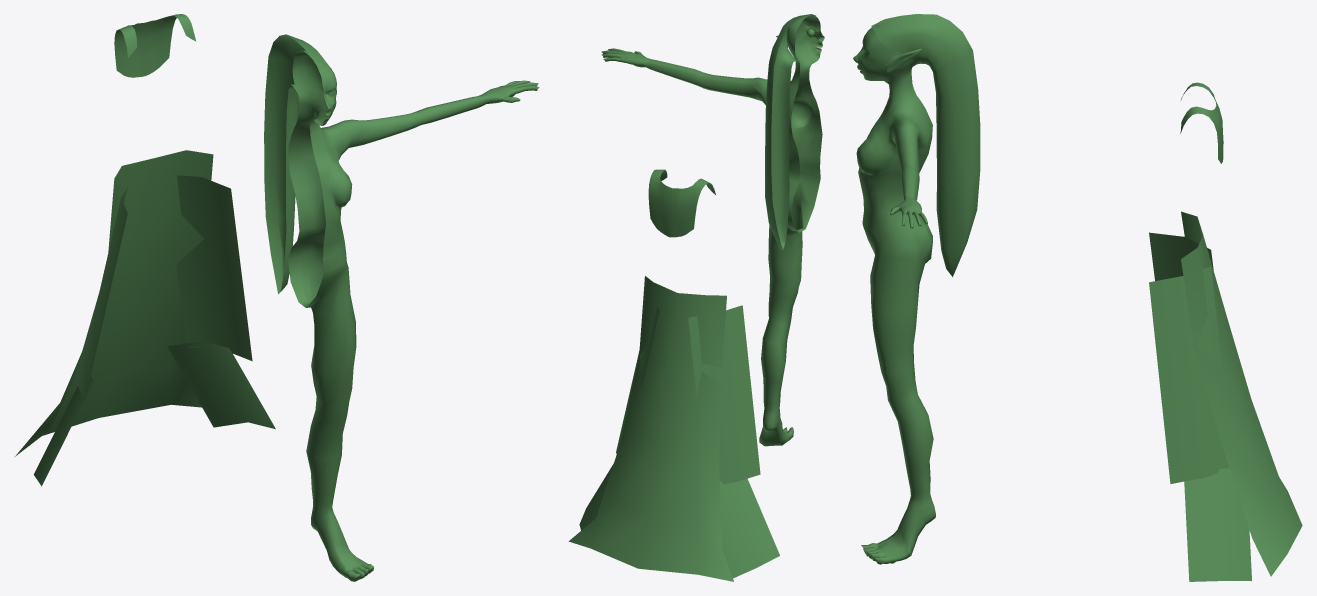
Rendered from shaman_UV.obj.
The picture shows the model from 3 angles, left to right: view 1: azimuth 30°, elevation 25°; view 2: azimuth 150°, elevation 25°; view 3: azimuth 270°, elevation 25°; orthographic projection. The views are drawn at different scales.
Parts seen in each view (by area): view 1: shaman:elf_body shaman:polySurface3 shaman:polySurface5 shaman:p, shaman:butt_cape1 shaman:polySurface3 shaman:polySurface5 shaman, shaman:pPlane14 shaman:polySurface3 shaman:polySurface5 shaman:p, shaman:polySurface3 shaman:polySurface5 shaman:polySurface10 sha, shaman:butt_cape3 shaman:polySurface3 shaman:polySurface4 shaman, shaman:elf_cape shaman:polySurface2 shaman:polySurface3 shaman:p, shaman:butt_cape4 shaman:polySurface3 shaman:polySurface5 shaman, shaman:polySurface3 shaman:polySurface5 shaman:polySurface13 sha, shaman:butt_cape5 shaman:polySurface3 shaman:polySurface5 shaman, shaman:polySurface1 shaman:polySurface21; view 2: shaman:butt_cape1 shaman:polySurface3 shaman:polySurface5 shaman, shaman:elf_body shaman:polySurface3 shaman:polySurface5 shaman:p, shaman:butt_cape4 shaman:polySurface3 shaman:polySurface5 shaman, shaman:polySurface3 shaman:polySurface5 shaman:polySurface10 sha, shaman:butt_cape5 shaman:polySurface3 shaman:polySurface5 shaman, shaman:elf_cape shaman:polySurface2 shaman:polySurface3 shaman:p, shaman:pPlane14 shaman:polySurface3 shaman:polySurface5 shaman:p, shaman:polySurface3 shaman:polySurface5 shaman:polySurface13 sha, shaman:butt_cape3 shaman:polySurface3 shaman:polySurface4 shaman, shaman:polySurface1 shaman:polySurface21; view 3: shaman:elf_body shaman:polySurface3 shaman:polySurface5 shaman:p, shaman:butt_cape1 shaman:polySurface3 shaman:polySurface5 shaman, shaman:pPlane14 shaman:polySurface3 shaman:polySurface5 shaman:p, shaman:polySurface3 shaman:polySurface5 shaman:polySurface10 sha, shaman:butt_cape3 shaman:polySurface3 shaman:polySurface4 shaman, shaman:polySurface1 shaman:polySurface21, shaman:polySurface3 shaman:polySurface5 shaman:polySurface13 sha, shaman:butt_cape4 shaman:polySurface3 shaman:polySurface5 shaman, shaman:elf_cape shaman:polySurface2 shaman:polySurface3 shaman:p.
Boxes of the visible parts, left/top/right/bottom form: shaman:elf_body shaman:polySurface3 shaman:polySurface5 shaman:p: left=288, top=50, right=539, bottom=581; shaman:butt_cape1 shaman:polySurface3 shaman:polySurface5 shaman: left=15, top=150, right=213, bottom=456; shaman:pPlane14 shaman:polySurface3 shaman:polySurface5 shaman:p: left=176, top=175, right=252, bottom=361; shaman:polySurface3 shaman:polySurface5 shaman:polySurface10 sha: left=264, top=34, right=331, bottom=294; shaman:butt_cape3 shaman:polySurface3 shaman:polySurface4 shaman: left=167, top=341, right=275, bottom=429; shaman:elf_cape shaman:polySurface2 shaman:polySurface3 shaman:p: left=114, top=14, right=196, bottom=77; shaman:butt_cape4 shaman:polySurface3 shaman:polySurface5 shaman: left=78, top=188, right=127, bottom=401; shaman:polySurface3 shaman:polySurface5 shaman:polySurface13 sha: left=288, top=75, right=350, bottom=311; shaman:butt_cape5 shaman:polySurface3 shaman:polySurface5 shaman: left=33, top=376, right=93, bottom=486; shaman:polySurface1 shaman:polySurface21: left=268, top=34, right=337, bottom=524; shaman:butt_cape1 shaman:polySurface3 shaman:polySurface5 shaman: left=568, top=276, right=733, bottom=581; shaman:elf_body shaman:polySurface3 shaman:polySurface5 shaman:p: left=601, top=16, right=824, bottom=446; shaman:butt_cape4 shaman:polySurface3 shaman:polySurface5 shaman: left=688, top=305, right=760, bottom=483; shaman:polySurface3 shaman:polySurface5 shaman:polySurface10 sha: left=765, top=14, right=815, bottom=251; shaman:butt_cape5 shaman:polySurface3 shaman:polySurface5 shaman: left=719, top=478, right=779, bottom=578; shaman:elf_cape shaman:polySurface2 shaman:polySurface3 shaman:p: left=648, top=169, right=715, bottom=237; shaman:pPlane14 shaman:polySurface3 shaman:polySurface5 shaman:p: left=616, top=306, right=659, bottom=453; shaman:polySurface3 shaman:polySurface5 shaman:polySurface13 sha: left=786, top=39, right=823, bottom=236; shaman:butt_cape3 shaman:polySurface3 shaman:polySurface4 shaman: left=579, top=464, right=613, bottom=530; shaman:polySurface1 shaman:polySurface21: left=763, top=15, right=817, bottom=430; shaman:elf_body shaman:polySurface3 shaman:polySurface5 shaman:p: left=853, top=31, right=935, bottom=564; shaman:butt_cape1 shaman:polySurface3 shaman:polySurface5 shaman: left=1181, top=211, right=1302, bottom=576; shaman:pPlane14 shaman:polySurface3 shaman:polySurface5 shaman:p: left=1149, top=266, right=1229, bottom=483; shaman:polySurface3 shaman:polySurface5 shaman:polySurface10 sha: left=871, top=14, right=980, bottom=276; shaman:butt_cape3 shaman:polySurface3 shaman:polySurface4 shaman: left=1184, top=468, right=1251, bottom=581; shaman:polySurface1 shaman:polySurface21: left=868, top=15, right=972, bottom=534; shaman:polySurface3 shaman:polySurface5 shaman:polySurface13 sha: left=868, top=125, right=932, bottom=283; shaman:butt_cape4 shaman:polySurface3 shaman:polySurface5 shaman: left=1149, top=232, right=1213, bottom=280; shaman:elf_cape shaman:polySurface2 shaman:polySurface3 shaman:p: left=1180, top=82, right=1223, bottom=163.
Size of the model in its own units: 5.53 by 7.89 by 6.11.
